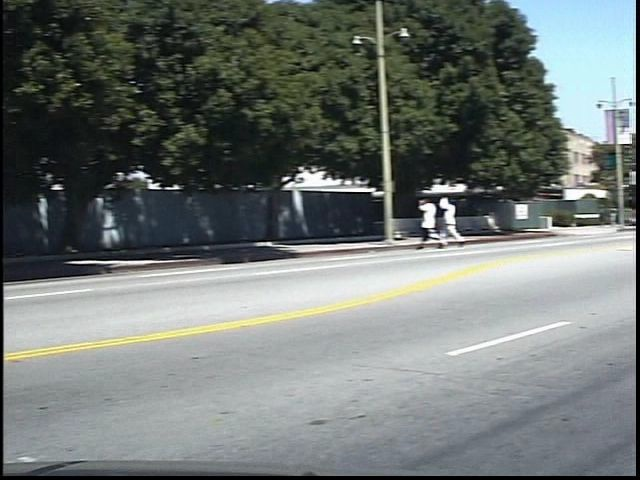person: (432, 191, 458, 254), (456, 193, 482, 252)
